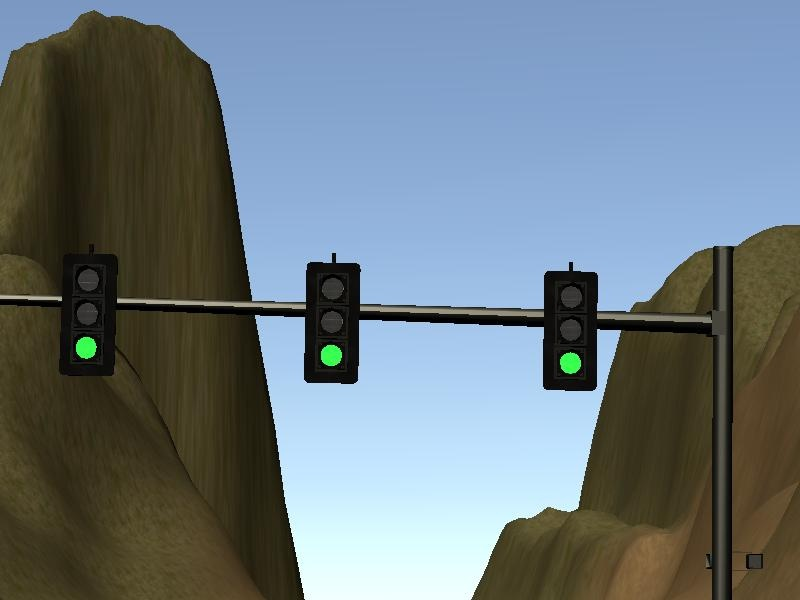GREEN: (60, 254, 118, 380), (304, 260, 361, 387), (541, 270, 598, 391)
